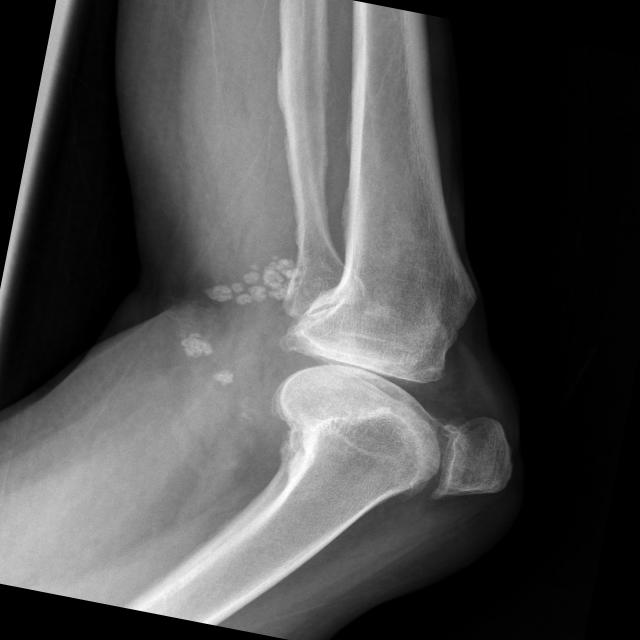Knee: (254, 274, 542, 518)
